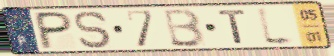7: (125, 9, 155, 49)
B: (163, 7, 208, 49)
L: (254, 4, 299, 48)
P: (35, 10, 75, 51)
S: (72, 9, 115, 50)
T: (216, 8, 249, 45)
